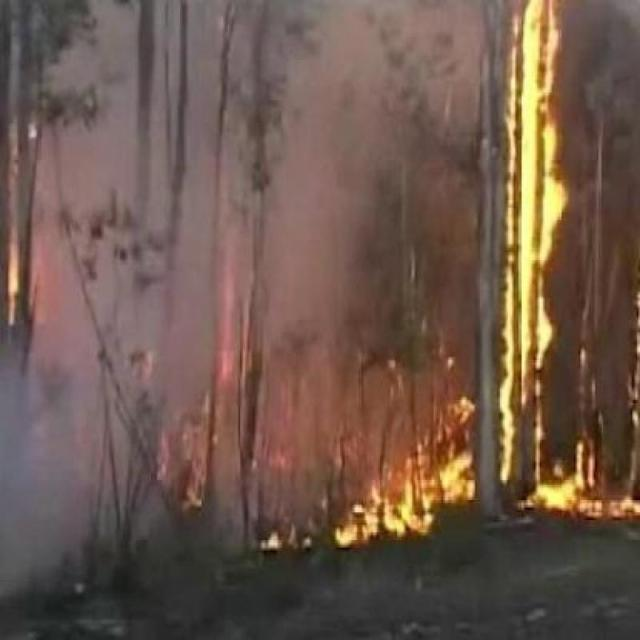Fire: (372, 27, 623, 546)
Smoke: (9, 18, 320, 592)
